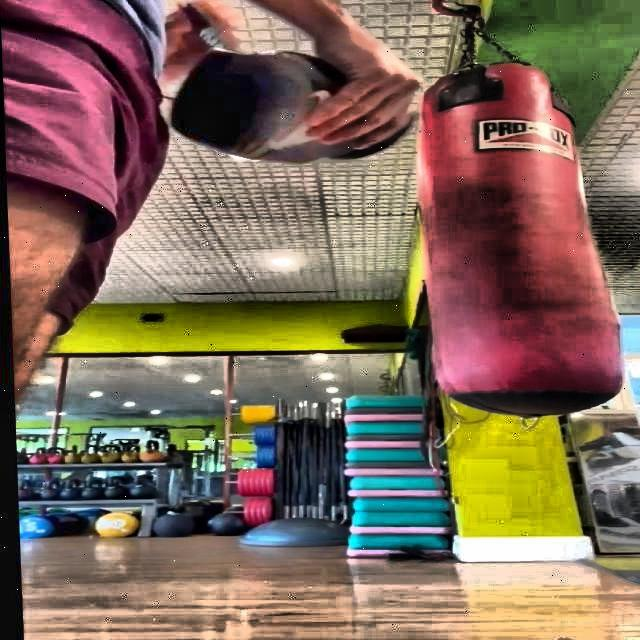boxing-bag: (416, 4, 620, 420)
